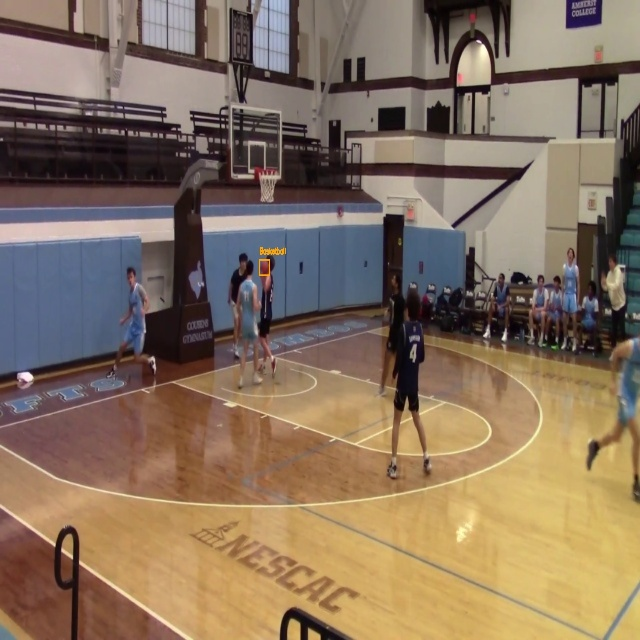Basketball: (260, 260, 269, 275)
